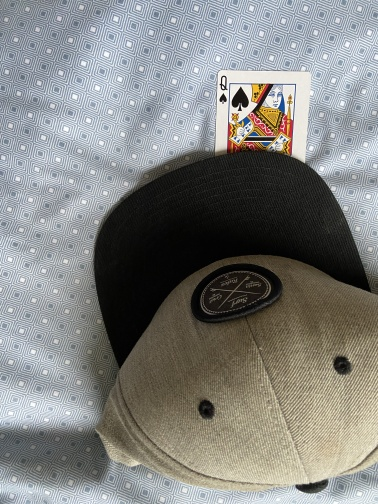queen: (211, 69, 312, 196)
